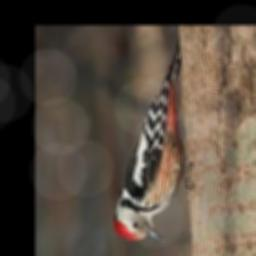Woodpecker: (114, 40, 194, 242)
